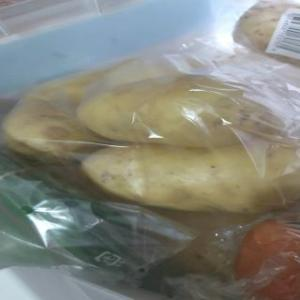carrot: (236, 222, 300, 300)
potato: (10, 55, 215, 153), (79, 136, 299, 210), (76, 72, 286, 144), (224, 0, 300, 68)
